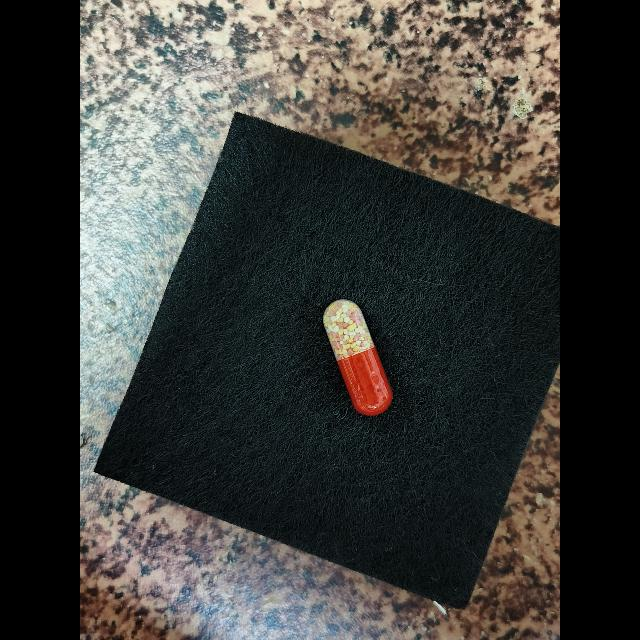Intact Capsule: (323, 299, 393, 416)
